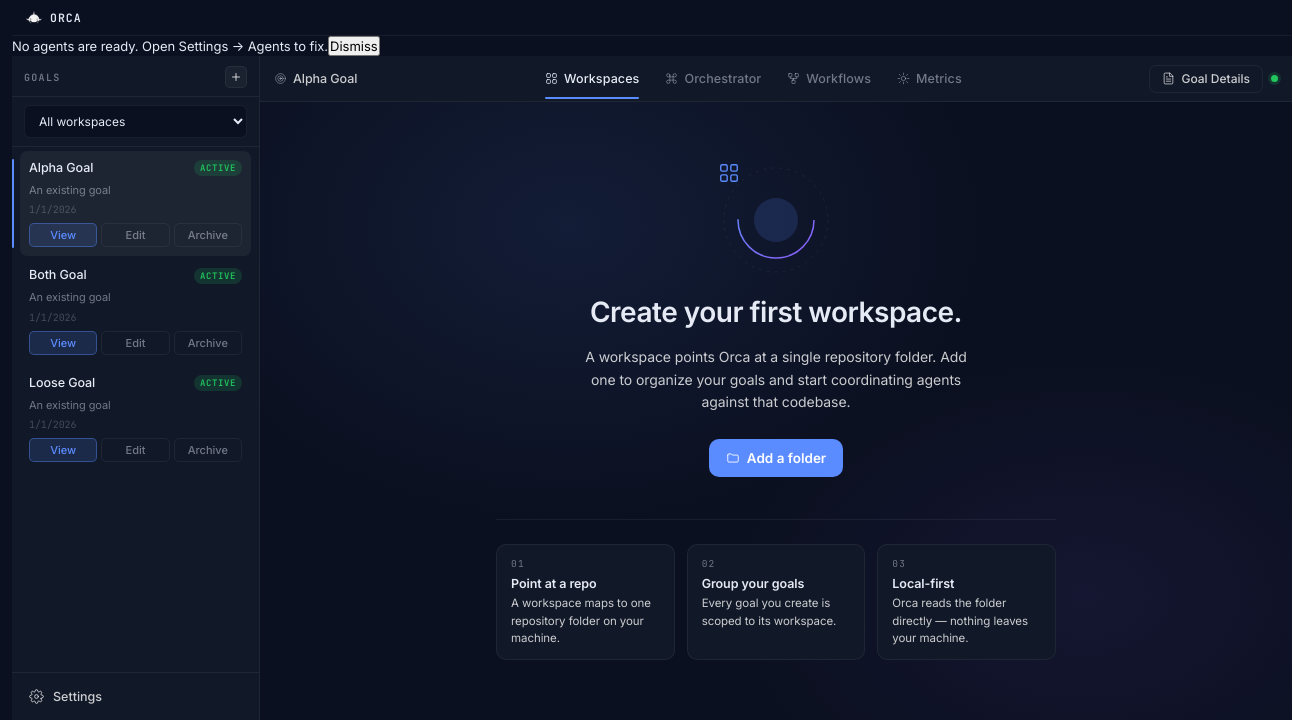
Test: Goals rail workspace filter › keeps a no-workspace goal visible only under 'All workspaces'
Expected: the 2nd text "Alpha Goal" is shown, x1=29 y1=160 x2=93 y2=175
Select "Alpha" in the dropdown named "filter goals by workspace" at [136, 122], box x1=24 y1=105 x2=247 y2=138
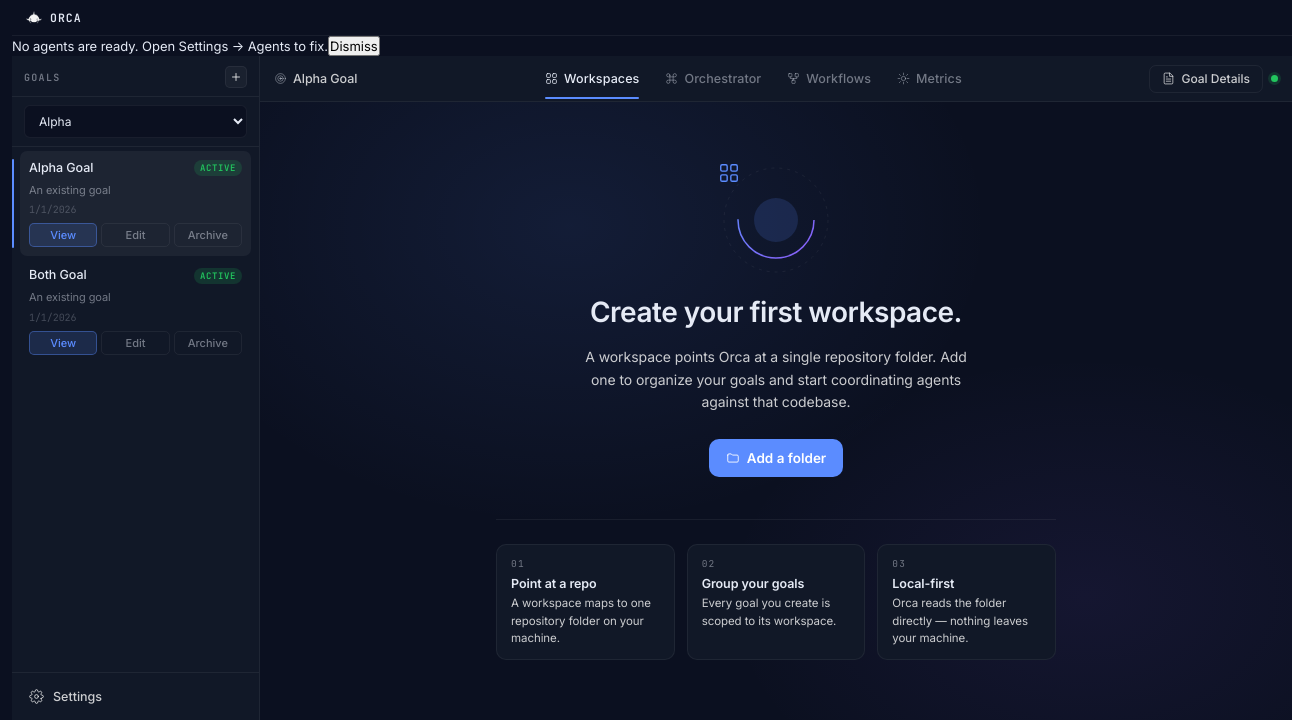
Expected: the text "Loose Goal" is gone
Select "All workspaces" in the dropdown named "filter goals by workspace" at [136, 122], box x1=24 y1=105 x2=247 y2=138
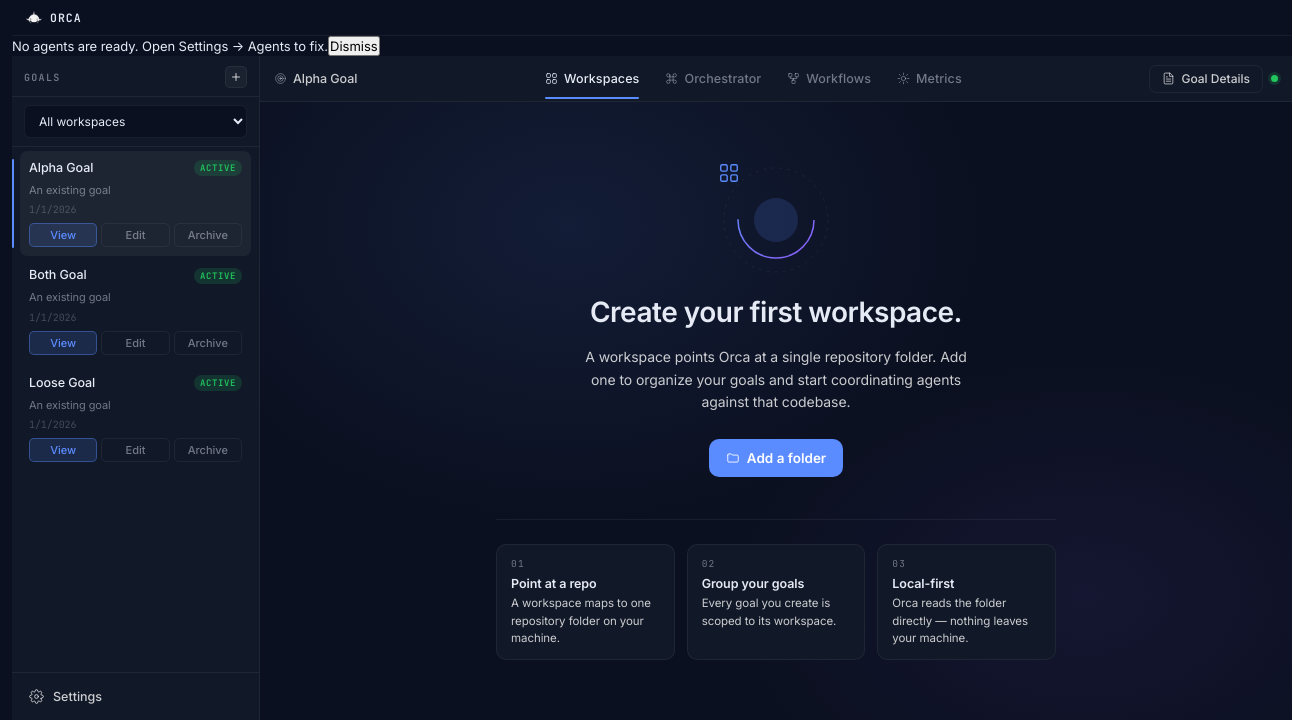
Expected: the text "Loose Goal" is shown, x1=29 y1=375 x2=95 y2=390
